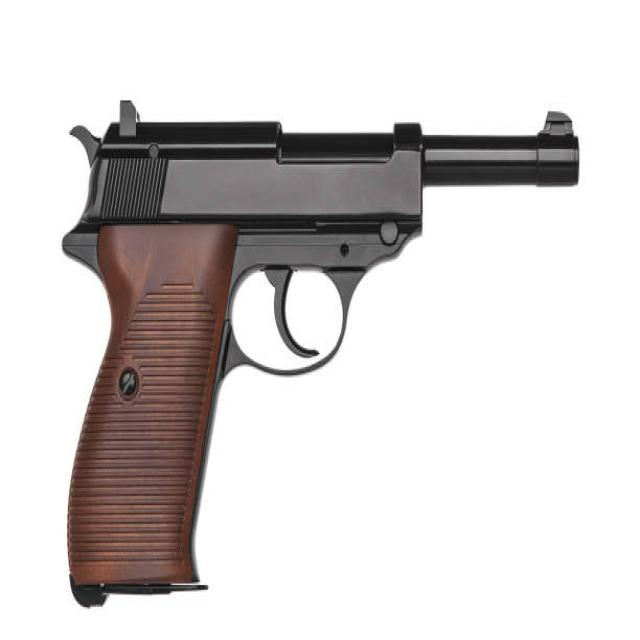pistol: (54, 92, 589, 615)
